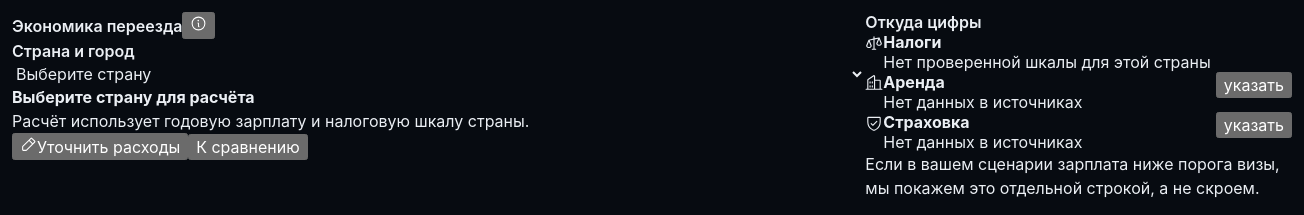
RelocationEconomy › без страны «Уточнить расходы» просит выбрать страну и ставит на неё фокус (26.10)
Click the button "Уточнить расходы": (100,146) [12, 133, 188, 160]
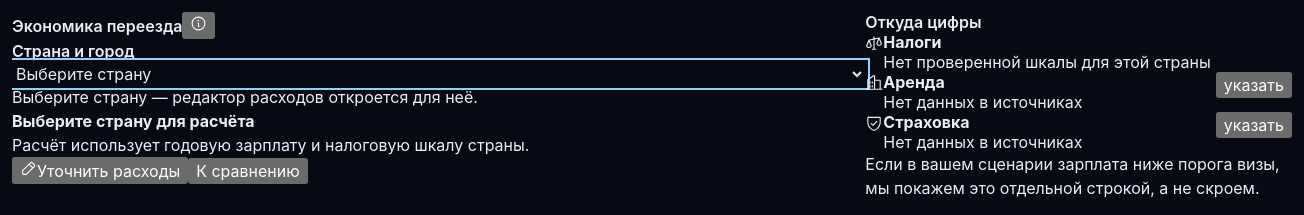
Expected: the message "Выберите страну — редактор расходов откроется для неё." is shown, [12, 87, 478, 107]
